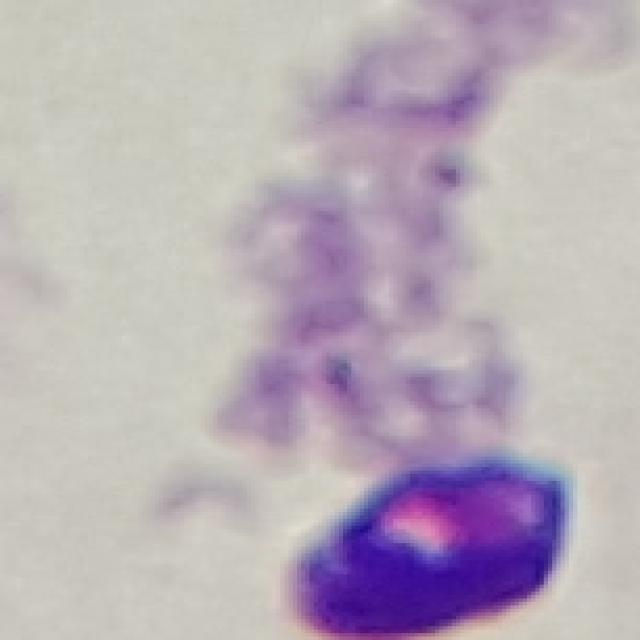non-sperm: (189, 383, 597, 639)
